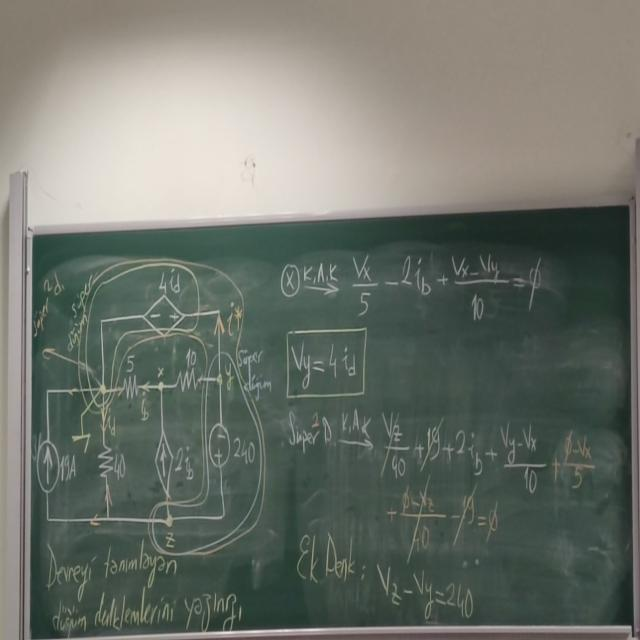image: (28, 238, 280, 546)
math: (279, 401, 599, 546), (338, 244, 552, 320), (370, 552, 488, 626), (288, 332, 368, 396)
text: (37, 543, 250, 629)
